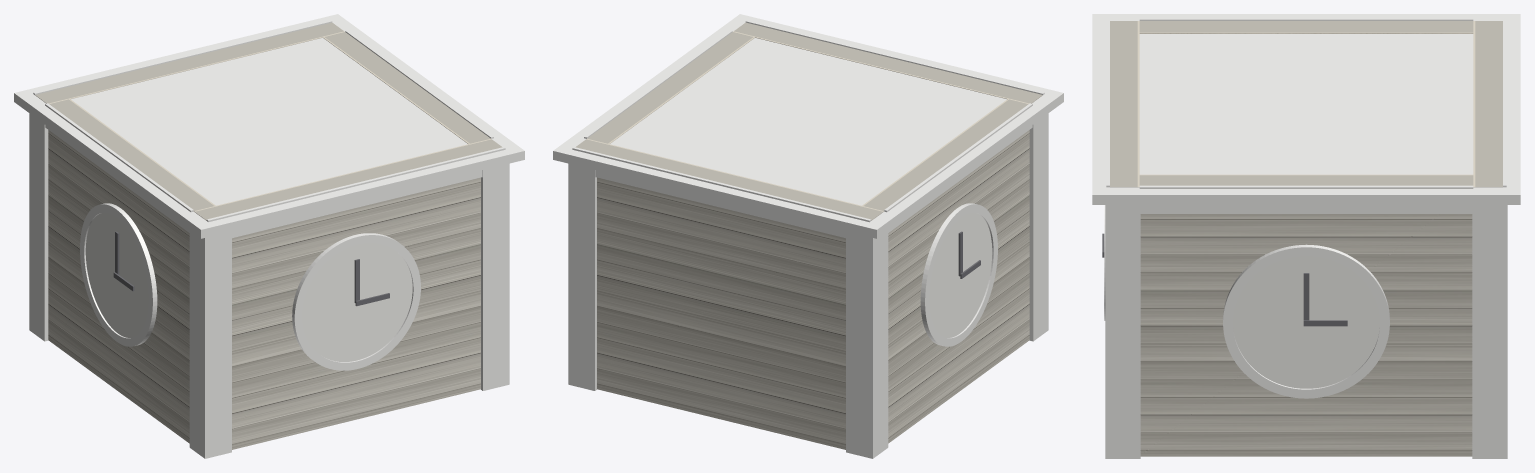
The model's file is tower_clock.glb.
3 renders of one model, left to right at view 1: azimuth 30°, elevation 25°; view 2: azimuth 150°, elevation 25°; view 3: azimuth 270°, elevation 25°, orthographic. The views are drawn at different scales.
Visible parts, largest first — view 1: tower_clock_trim, tower_clock_siding, tower_clock_clock, tower_clock_plaster, tower_clock_dark; view 2: tower_clock_siding, tower_clock_trim, tower_clock_clock, tower_clock_plaster; view 3: tower_clock_trim, tower_clock_siding, tower_clock_clock, tower_clock_plaster, tower_clock_dark.
Part boxes in pixels (bbox=[...]): tower_clock_trim: bbox=[14, 14, 524, 458]; tower_clock_siding: bbox=[35, 22, 502, 449]; tower_clock_clock: bbox=[85, 212, 412, 361]; tower_clock_plaster: bbox=[48, 31, 491, 211]; tower_clock_dark: bbox=[113, 231, 389, 306]; tower_clock_siding: bbox=[575, 22, 1042, 449]; tower_clock_trim: bbox=[553, 14, 1063, 458]; tower_clock_clock: bbox=[929, 212, 992, 337]; tower_clock_plaster: bbox=[586, 31, 1029, 211]; tower_clock_trim: bbox=[1092, 14, 1520, 458]; tower_clock_siding: bbox=[1110, 21, 1502, 456]; tower_clock_clock: bbox=[1233, 256, 1379, 388]; tower_clock_plaster: bbox=[1137, 21, 1475, 187]; tower_clock_dark: bbox=[1102, 233, 1347, 326].
Size of the model in its own units: 4.36 by 3.05 by 4.36.
Materials: 5 (2 with a texture image).
